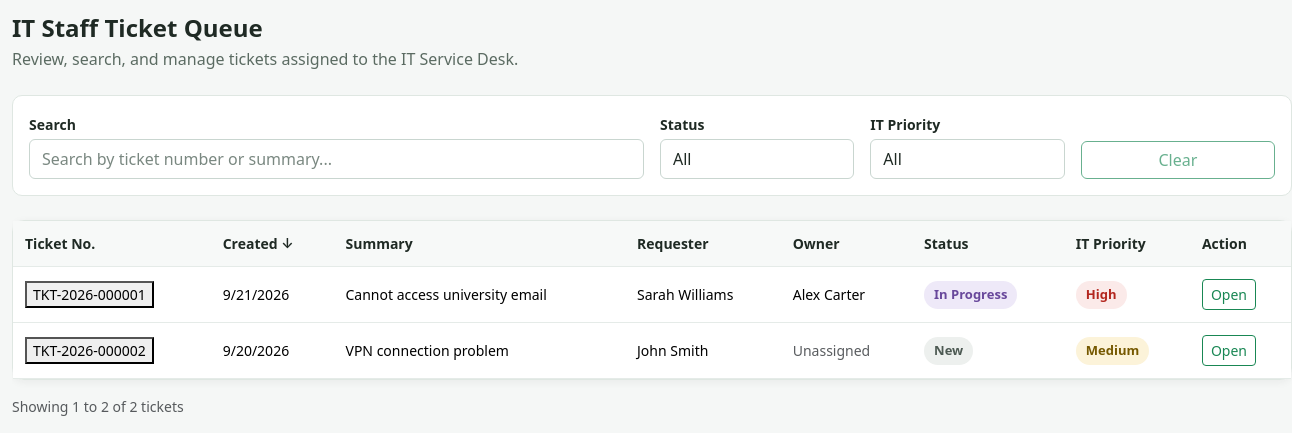
Scenario: Lab 3 - IT Staff Ticket Queue › supports sorting
Click the button "Summary" at (379, 244), box [346,233,413,254]
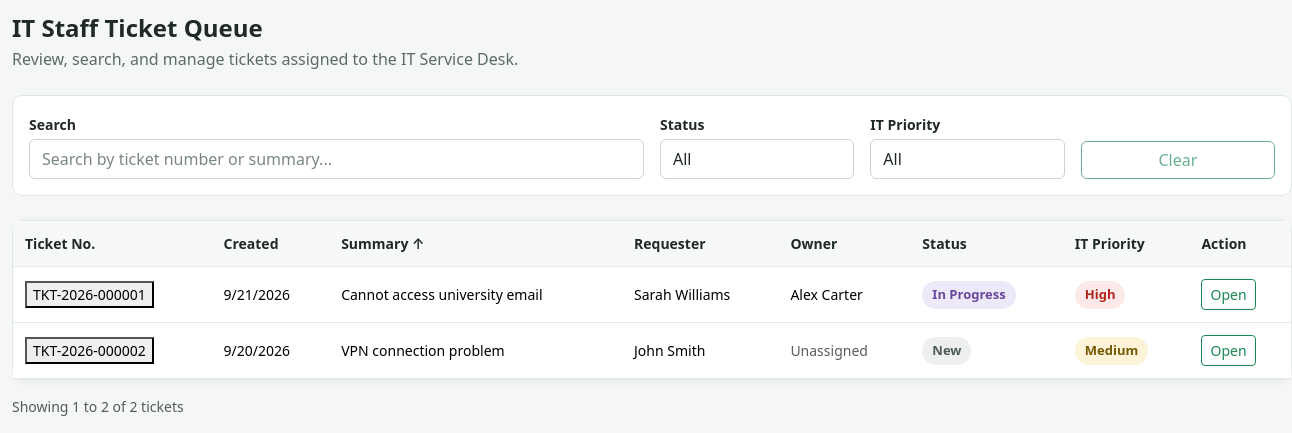
expect the button "Summary ↑" is shown: met
Click the button "Summary ↑" at (383, 244), box [341,233,424,254]
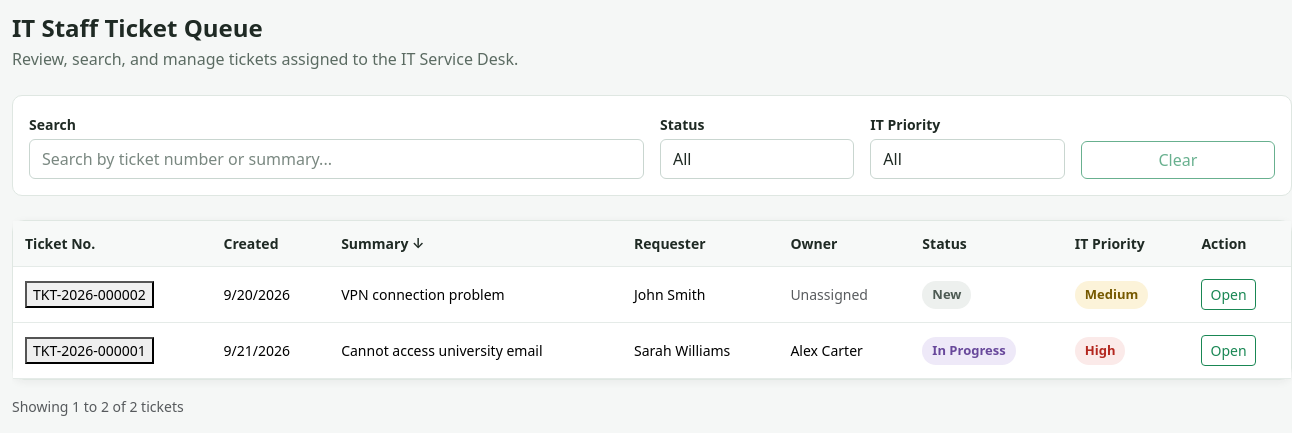
expect the button "Summary ↓" is shown: met, box [341,233,424,254]
